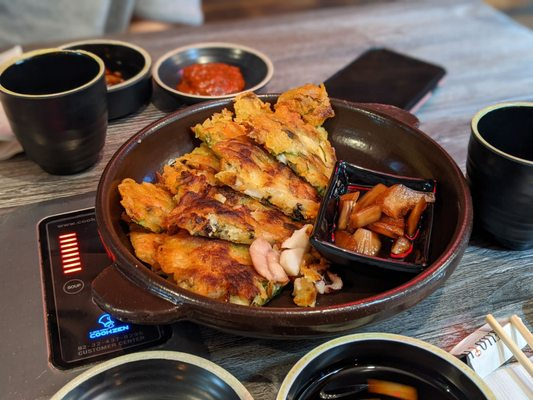sushi: (74, 7, 478, 339), (275, 334, 497, 400), (16, 39, 153, 121), (151, 43, 274, 113), (56, 40, 153, 122)
